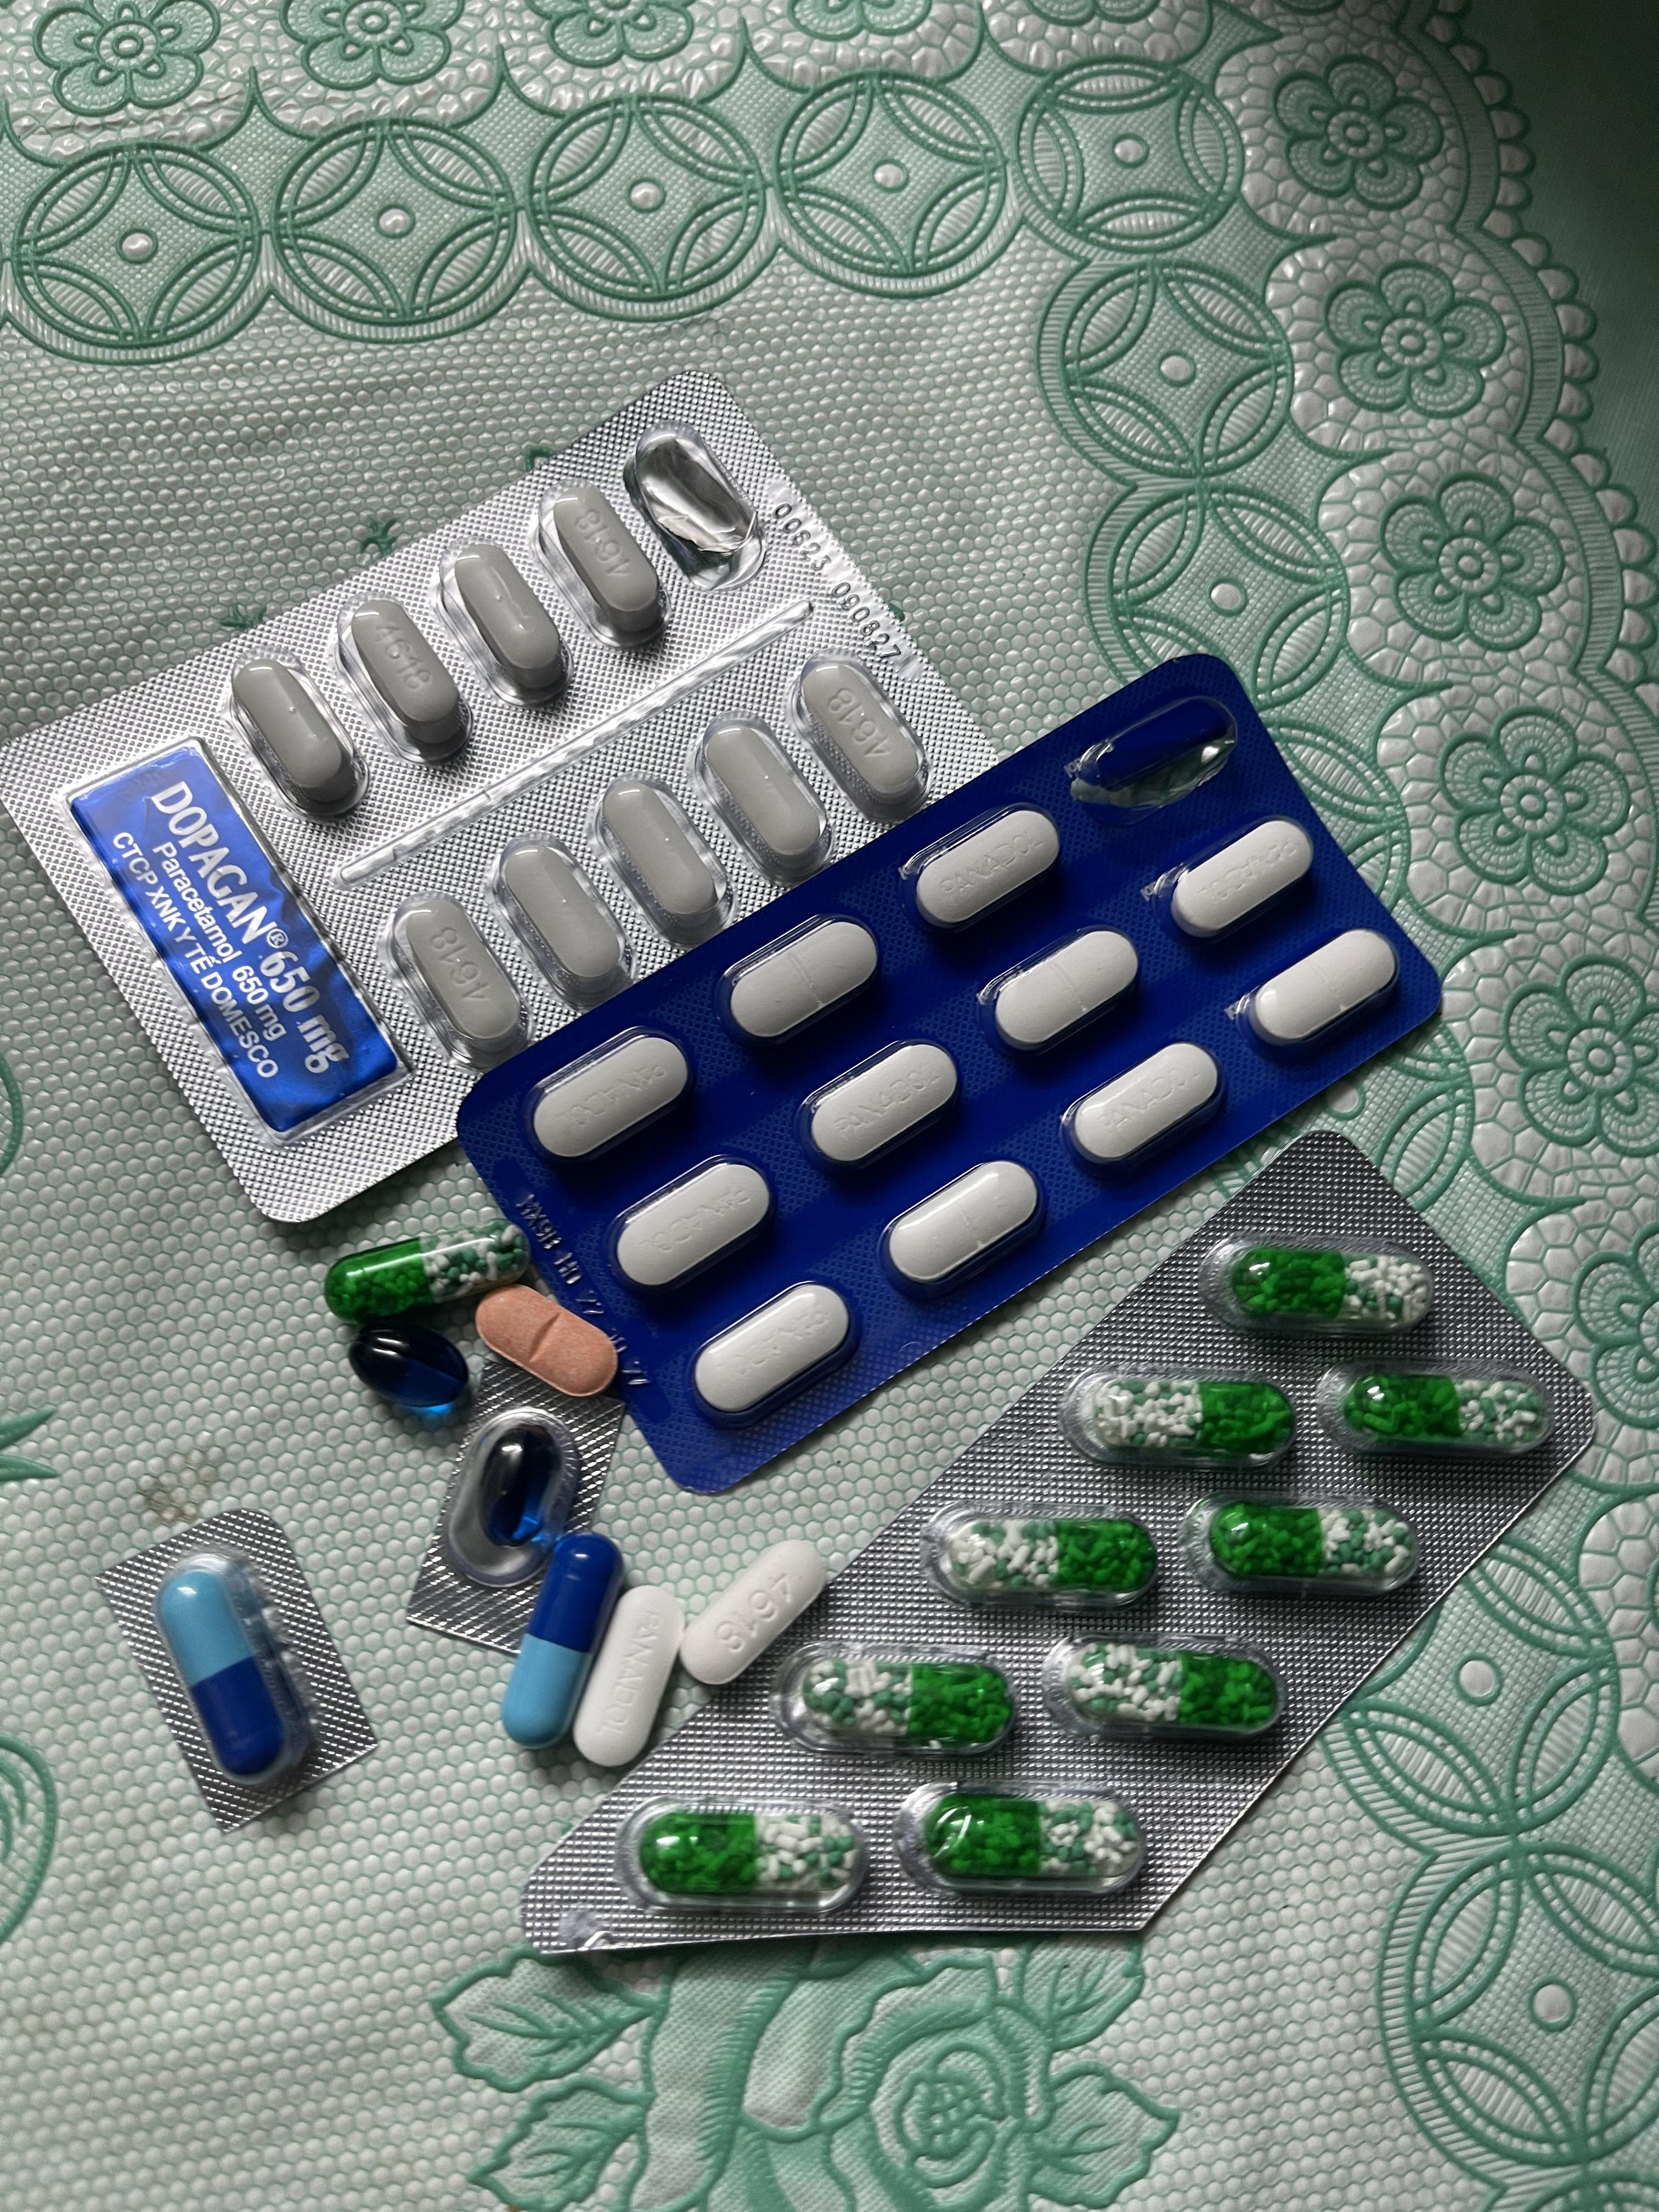Lincomyxin_500mg: (347, 1324, 474, 1416), (484, 1435, 559, 1547)
Loratadine_10mg: (477, 1285, 619, 1400)
Paracetamol_350mg: (690, 1284, 856, 1421), (608, 1155, 774, 1292), (718, 913, 878, 1052), (526, 1029, 690, 1165), (880, 1158, 1044, 1292), (802, 1038, 962, 1172), (1243, 927, 1406, 1057), (1065, 1042, 1222, 1174), (908, 803, 1065, 932), (572, 1585, 681, 1768), (986, 927, 1138, 1057), (1166, 817, 1316, 942)
Paracetamol_500mg: (491, 833, 634, 1010), (385, 890, 528, 1066), (592, 777, 735, 948), (333, 596, 472, 766), (694, 714, 835, 881), (230, 657, 371, 820), (535, 477, 667, 651), (437, 545, 572, 714), (789, 657, 924, 824), (685, 1540, 831, 1683)
Paracetamol_650mg: (915, 1794, 1138, 1881), (326, 1223, 526, 1317), (640, 1810, 852, 1895), (803, 1658, 1011, 1745), (932, 1519, 1148, 1594), (1202, 1505, 1406, 1583), (1225, 1249, 1432, 1325), (1345, 1372, 1549, 1449), (1077, 1648, 1270, 1728), (1093, 1379, 1288, 1458)
pill: (155, 1552, 310, 1792), (502, 1531, 626, 1749)
